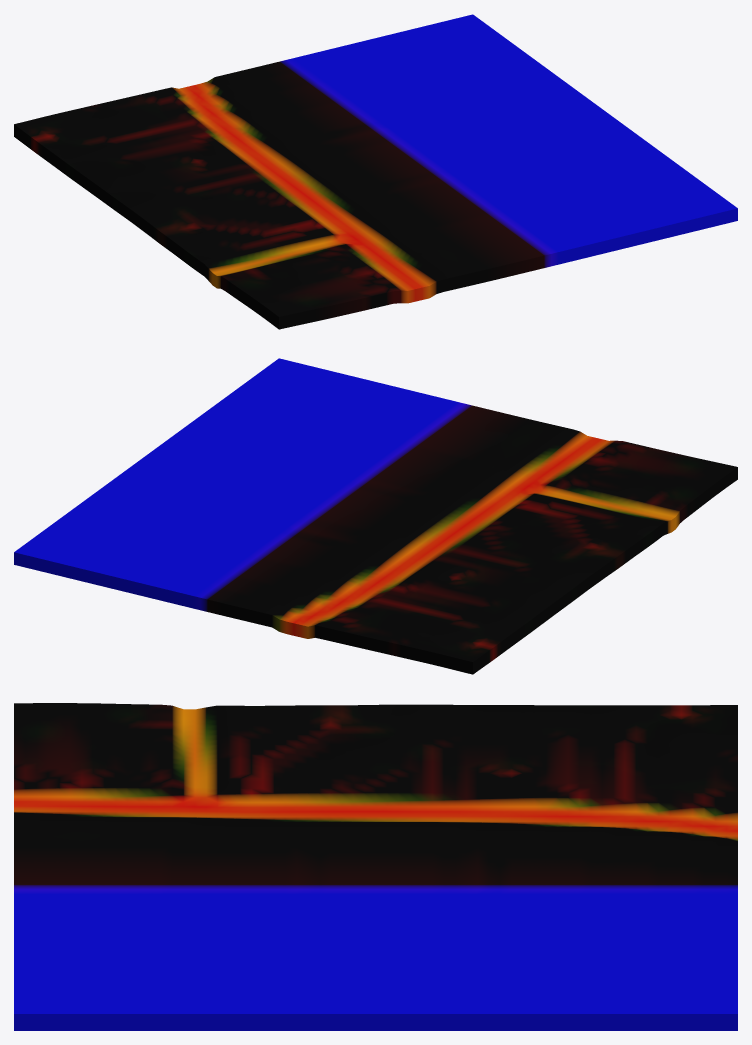
Rendered from Terrain_03_05.fbx.
3 renders of one model, top to bottom at view 1: azimuth 30°, elevation 25°; view 2: azimuth 150°, elevation 25°; view 3: azimuth 270°, elevation 25°, orthographic. The views are drawn at different scales.
Visible parts, largest first — view 1: Terrain_03_05_LOD0; view 2: Terrain_03_05_LOD0; view 3: Terrain_03_05_LOD0.
Part boxes in pixels (x1,y1,x2,y2): Terrain_03_05_LOD0: [14, 14, 737, 329]; Terrain_03_05_LOD0: [14, 358, 737, 674]; Terrain_03_05_LOD0: [14, 703, 737, 1030].
Size of what is drawn, in the model's own units: 384 by 15.05 by 384.
